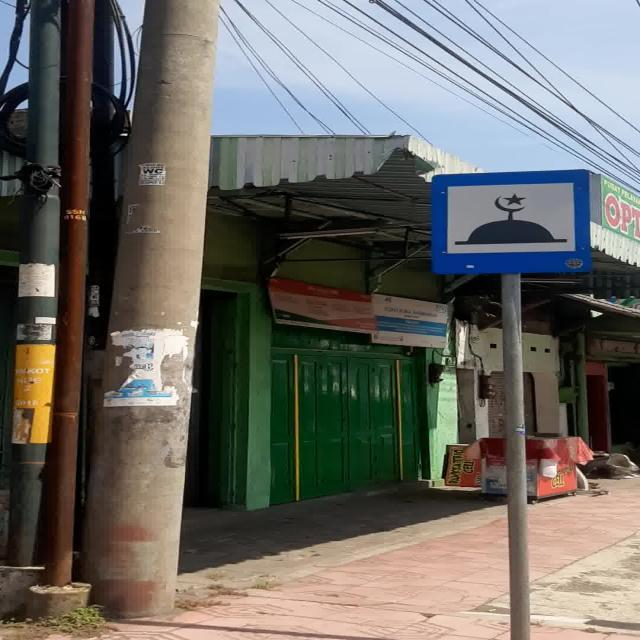Masjid: (431, 169, 593, 275)
